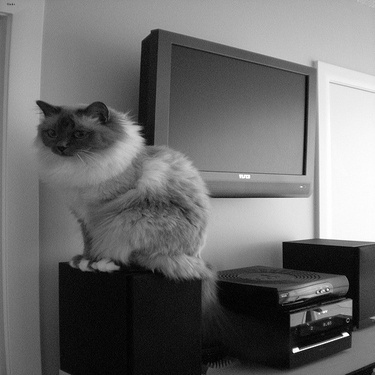cat: (33, 96, 215, 283)
